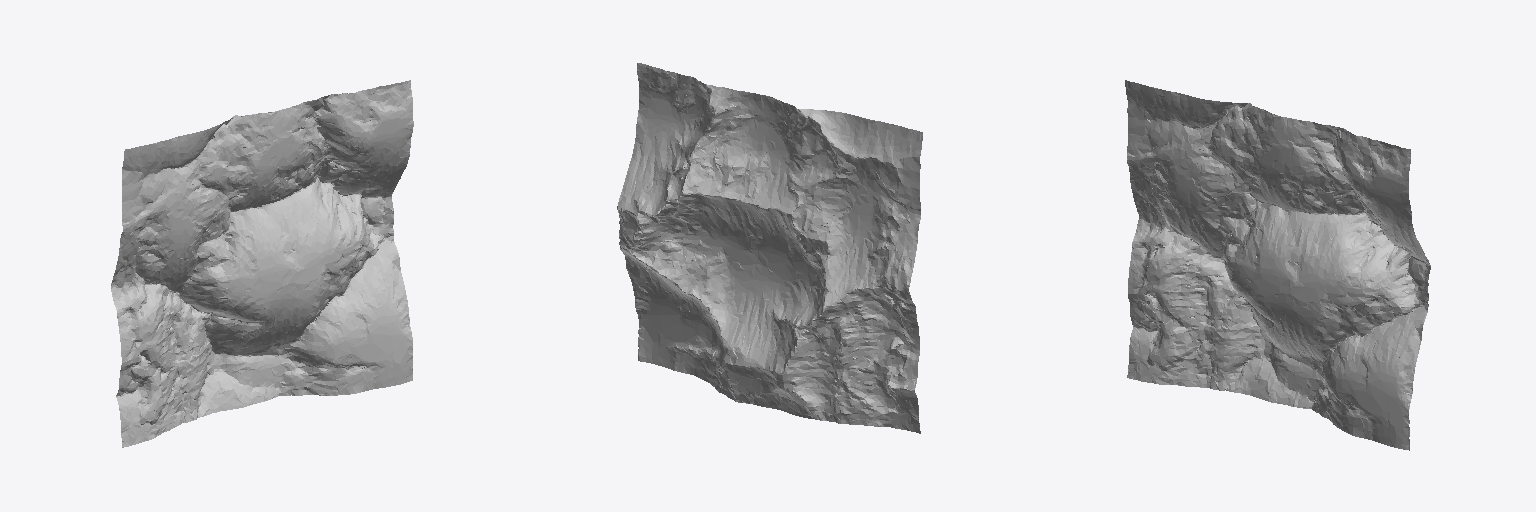
The model's file is ter.obj.
3 renders of one model, left to right at view 1: azimuth 30°, elevation 25°; view 2: azimuth 150°, elevation 25°; view 3: azimuth 330°, elevation 25°, orthographic.
Visible parts, largest first — view 1: ter; view 2: ter; view 3: ter.
Boxes of the visible parts, box(x1,y1,x2,y2) form: ter: box(111, 80, 413, 447); ter: box(617, 63, 922, 433); ter: box(1125, 80, 1430, 450).
Bounding box in the file's own units: 500 × 500 × 88.64.